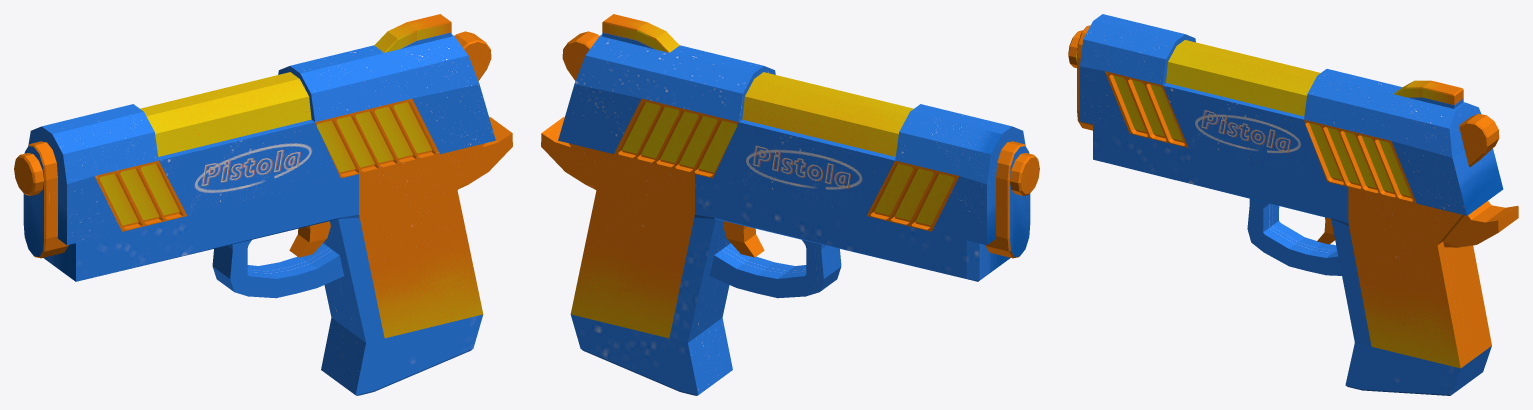
File: Gun.fbx
3 renders of one model, left to right at view 1: azimuth 30°, elevation 25°; view 2: azimuth 150°, elevation 25°; view 3: azimuth 330°, elevation 25°, orthographic. The views are drawn at different scales.
Parts seen in each view (by area): view 1: Cylinder.003, Cube, Cube.001, Cylinder.001, Cube.002, Cylinder, Cube.004; view 2: Cylinder.003, Cube, Cube.001, Cylinder.001, Cube.002, Cylinder, Cube.004; view 3: Cylinder.003, Cube, Cube.001, Cube.002, Cylinder.001.
Part boxes in pixels (<box>): Cylinder.003: <box>28,14,495,245</box>; Cube: <box>43,143,484,395</box>; Cube.001: <box>212,240,344,298</box>; Cylinder.001: <box>23,141,68,258</box>; Cube.002: <box>458,117,512,189</box>; Cylinder: <box>14,153,43,195</box>; Cube.004: <box>289,221,330,257</box>; Cylinder.003: <box>558,14,1025,245</box>; Cube: <box>569,143,1010,395</box>; Cube.001: <box>709,240,841,298</box>; Cylinder.001: <box>985,141,1030,258</box>; Cube.002: <box>541,117,595,189</box>; Cylinder: <box>1010,153,1039,195</box>; Cube.004: <box>723,221,764,257</box>; Cylinder.003: <box>1079,14,1503,215</box>; Cube: <box>1093,124,1491,395</box>; Cube.001: <box>1247,198,1341,275</box>; Cube.002: <box>1443,201,1518,247</box>; Cylinder.001: <box>1077,25,1092,130</box>.
Bounding box in the file's own units: 27.25 × 18.53 × 3.97.
Materials: 1 (1 with a texture image).
